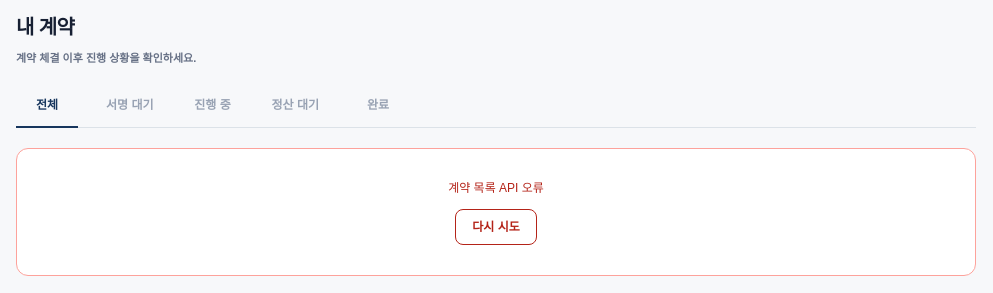
Test case: FreelancerContracts › 빈 목록과 조회 실패·재시도를 처리한다
Expected: the message shows "계약 목록 API 오류", [448,180,544,194]
Click the button "다시 시도": (496, 226) [455,208,537,244]
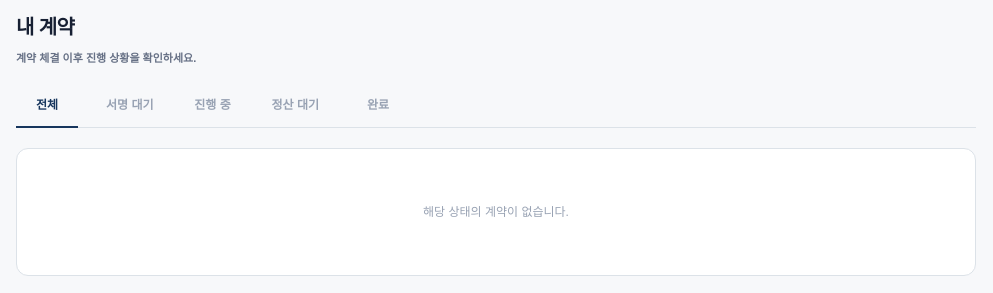
Expected: the text "해당 상태의 계약이 없습니다." is shown, [16,148,976,276]
